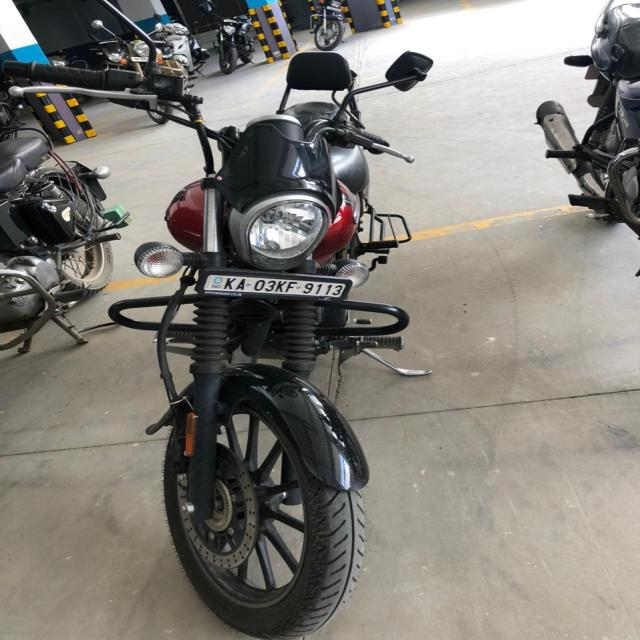license_plate: (200, 272, 351, 300)
